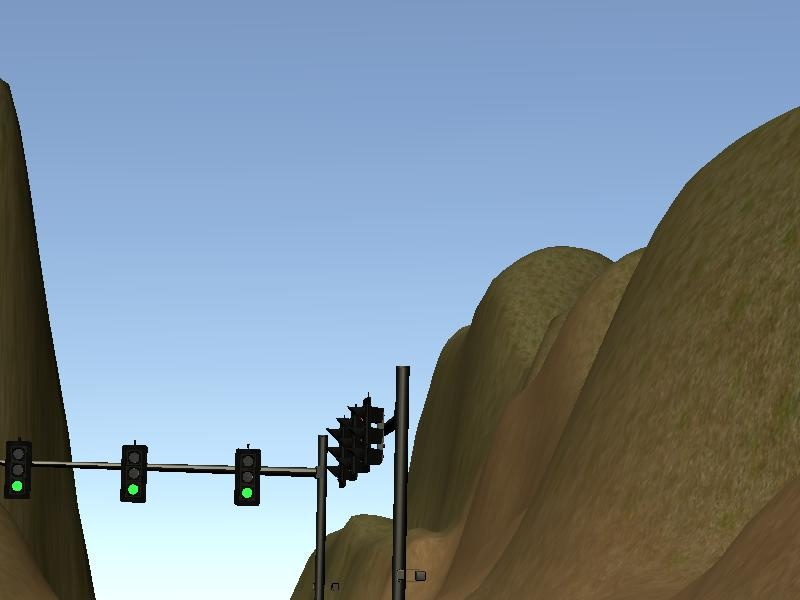green: (119, 441, 151, 508), (231, 447, 263, 505), (3, 441, 30, 499)
